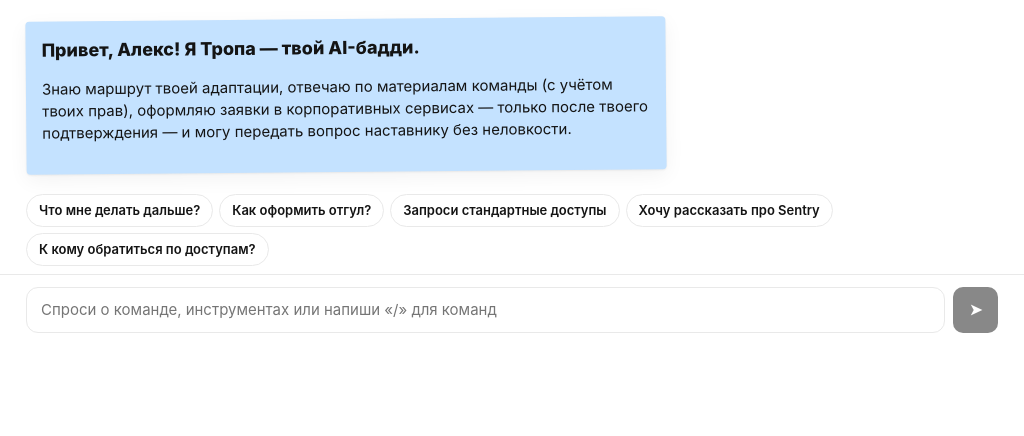
Test case: Chat › [UI-03] shows pending state and retries after errors
Step 1. Type "вопрос" into the text box named "Сообщение" → (486, 310), box x1=26 y1=287 x2=945 y2=333
Then press Enter
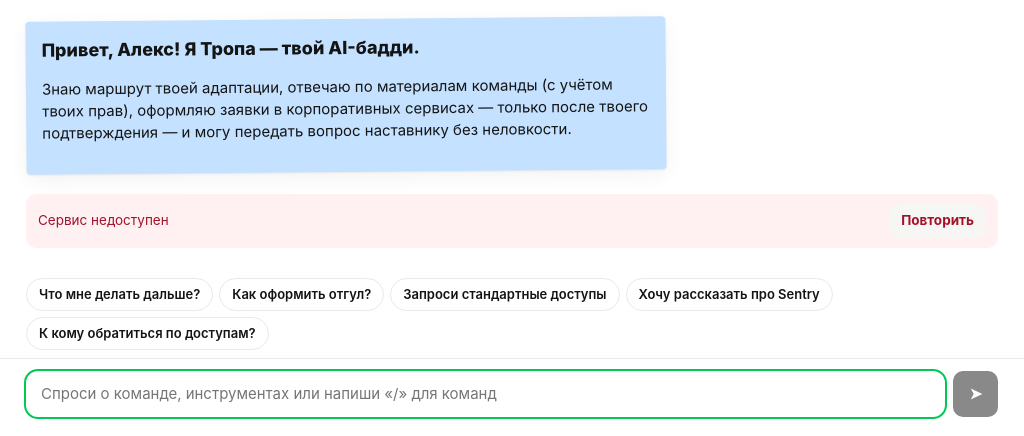
Expected: the text "Сервис недоступен" is shown, x1=38 y1=211 x2=169 y2=231
Step 2. Click the button "Повторить" → (938, 221), box x1=889 y1=204 x2=986 y2=238
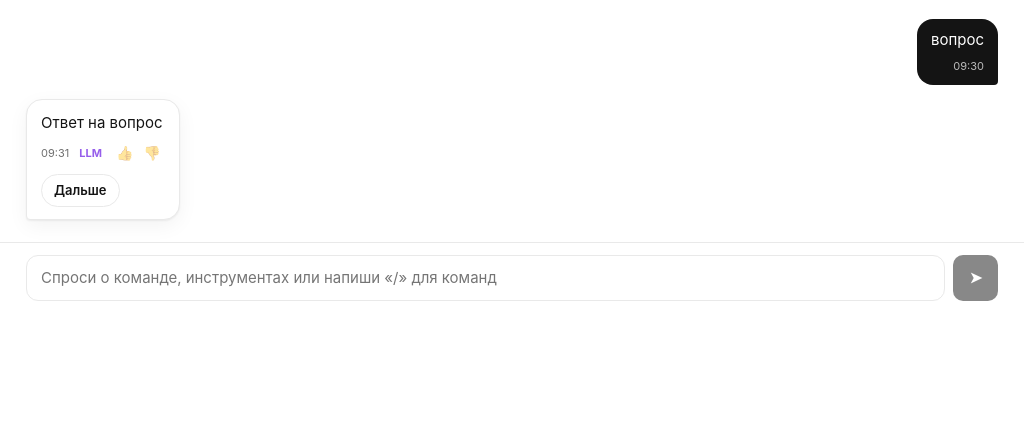
Expected: the text "Ответ на вопрос" is shown, x1=41 y1=112 x2=165 y2=134
